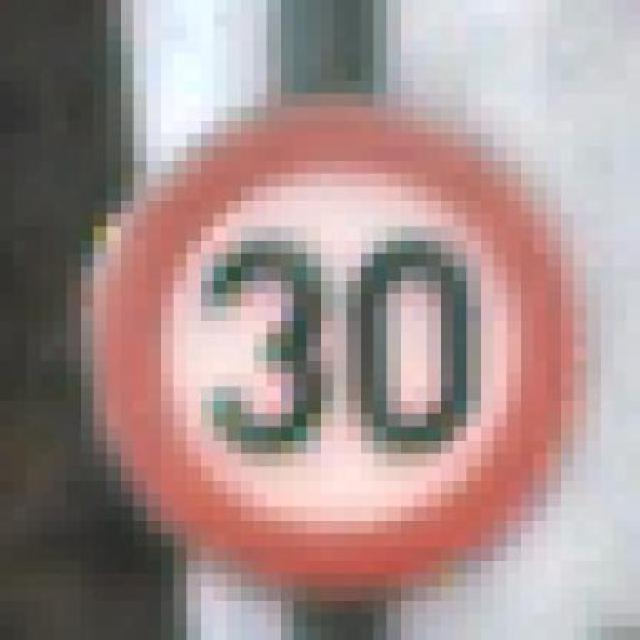Speed Limit 30 KMPh: (53, 80, 601, 600)
